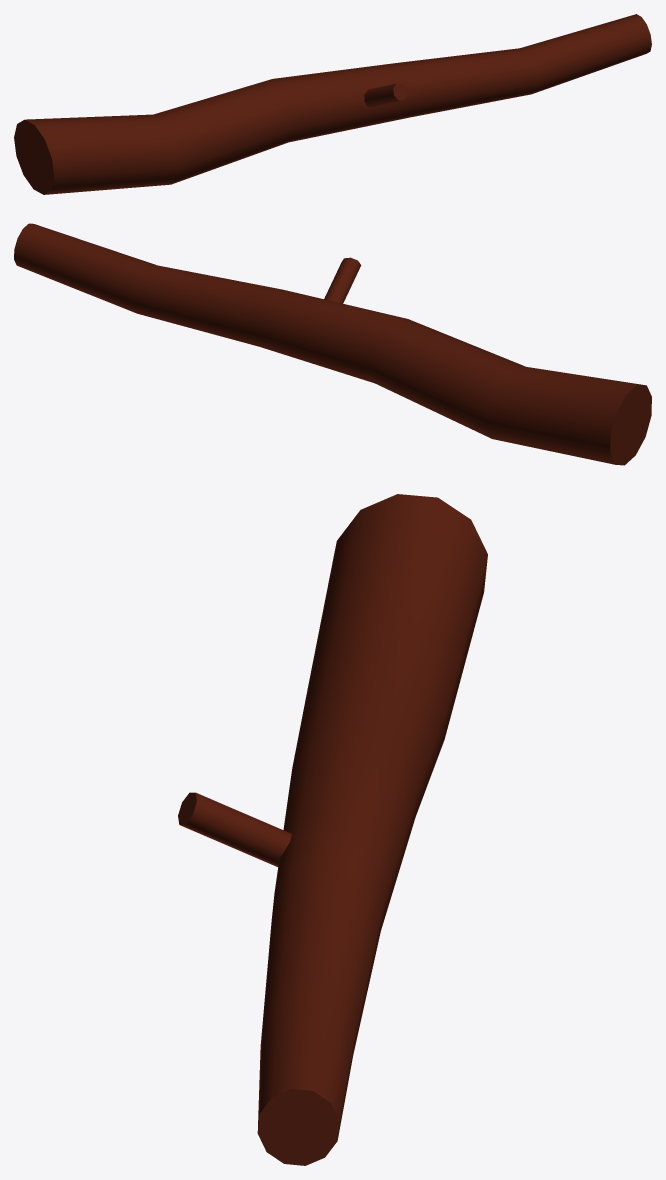
3 views of the same model, one above another, from view 1: azimuth 30°, elevation 25°; view 2: azimuth 150°, elevation 25°; view 3: azimuth 270°, elevation 25° (orthographic). The views are drawn at different scales.
Parts seen in each view (by area): view 1: root_04; view 2: root_04; view 3: root_04.
Boxes of the visible parts, bbox=[...] form: root_04: bbox=[14, 14, 651, 194]; root_04: bbox=[14, 223, 651, 465]; root_04: bbox=[178, 494, 487, 1165].
Size of the model in its own units: 188 by 26.39 by 43.36.
